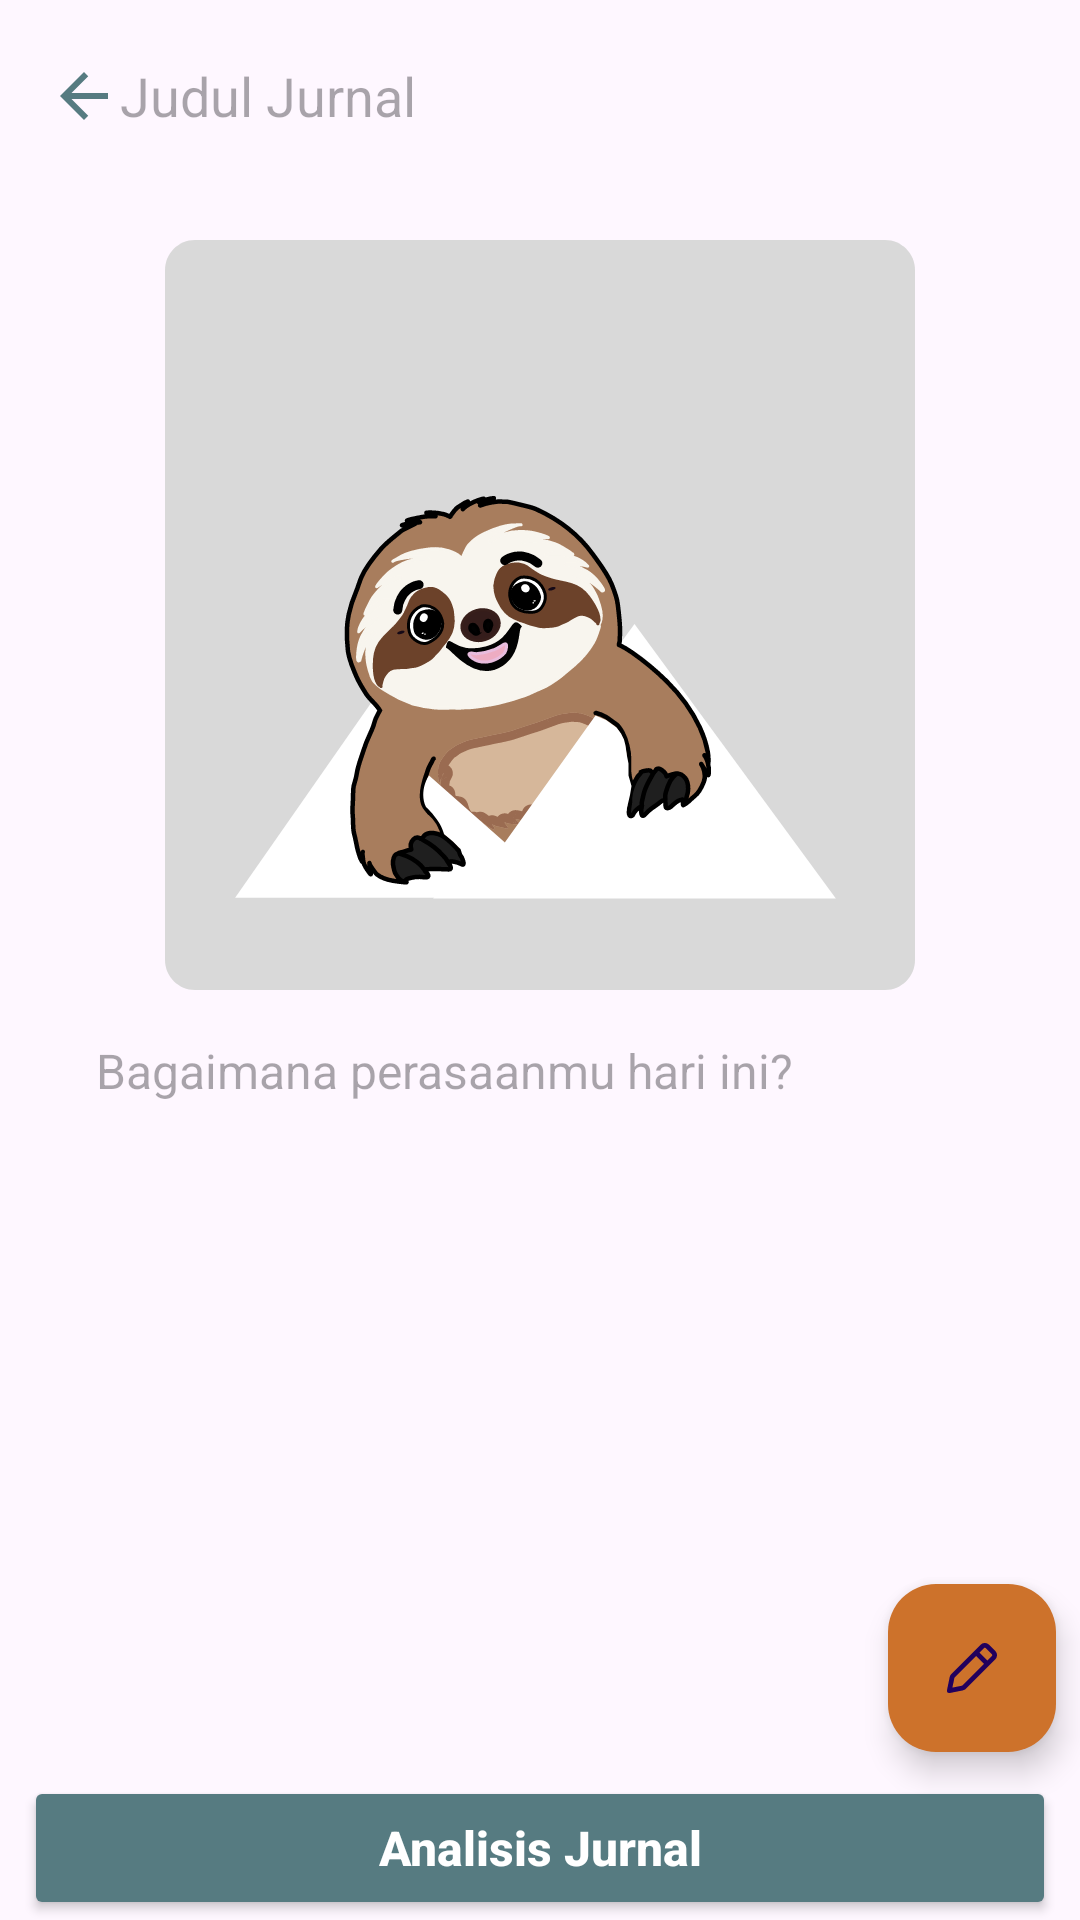

Icons on this 1080×1920 Android screen, each with the point to tap as (x,y):
Edit Jurnal: (972,1668)
Kembali: (84,96)
